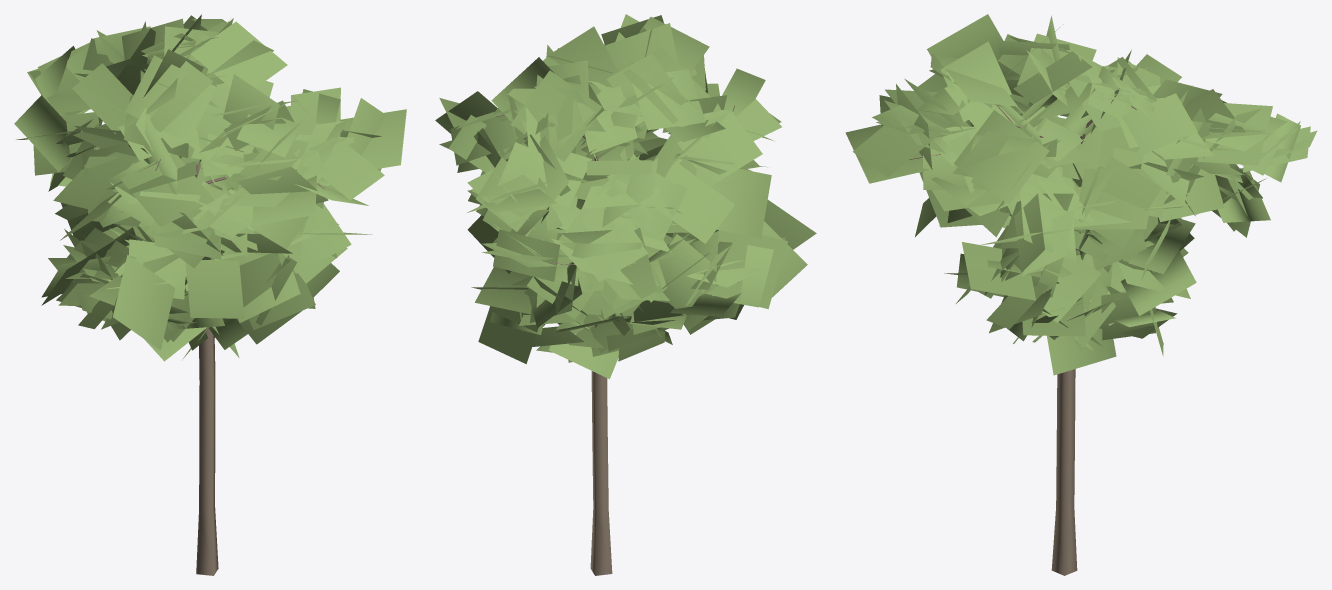
Rendered from Pine_1_lod2.glb.
The picture shows the model from 3 angles, left to right: view 1: azimuth 30°, elevation 25°; view 2: azimuth 150°, elevation 25°; view 3: azimuth 270°, elevation 25°; orthographic projection. The views are drawn at different scales.
Parts seen in each view (by area): view 1: Pine_1_lod2; view 2: Pine_1_lod2; view 3: Pine_1_lod2.
Part boxes in pixels (left/top/right/bottom): Pine_1_lod2: left=14, top=14, right=406, bottom=575; Pine_1_lod2: left=435, top=14, right=816, bottom=575; Pine_1_lod2: left=845, top=14, right=1317, bottom=575.
Bounding box in the file's own units: 13.23 × 19.36 × 15.51.
